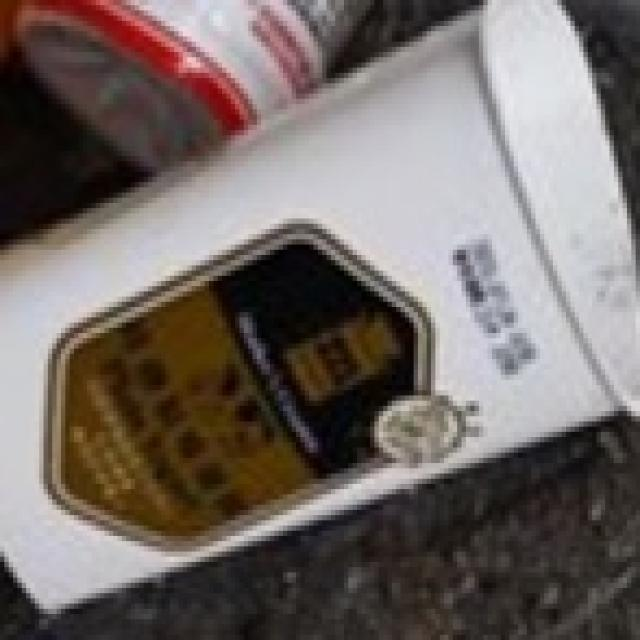paper cup: (7, 0, 640, 624)
